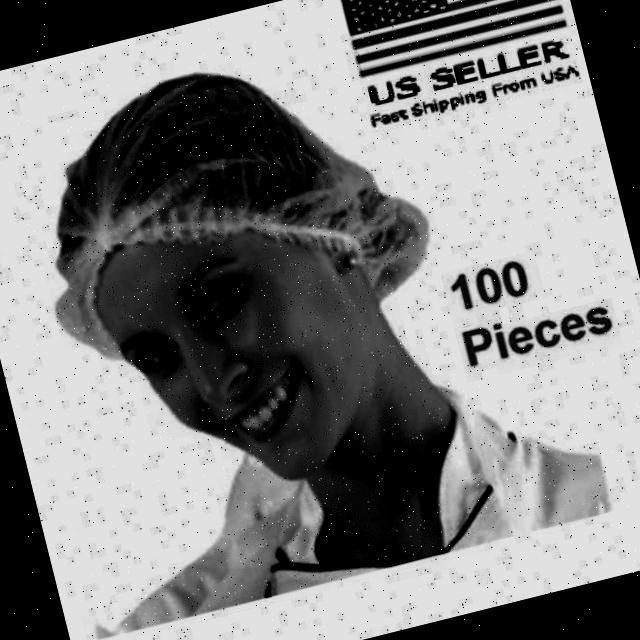no_hairnet: (186, 364, 313, 456)
